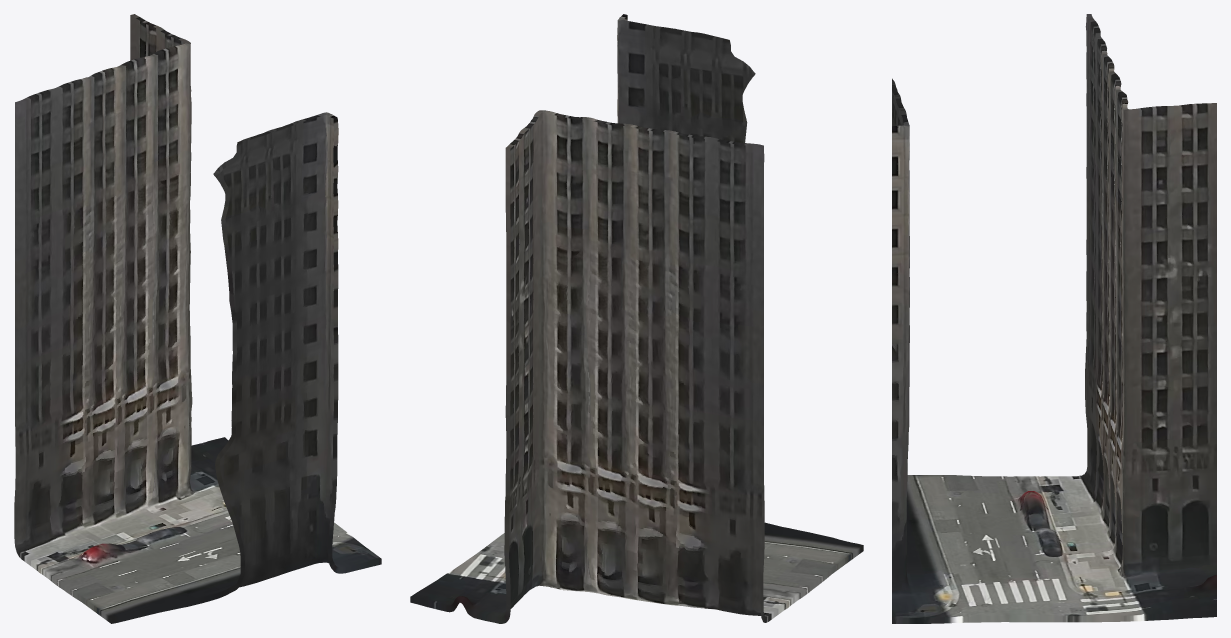
File: z20-167764-405234-h0-yup-uvflip-v3-world.glb
3 views of the same model, side by side, from view 1: azimuth 30°, elevation 25°; view 2: azimuth 150°, elevation 25°; view 3: azimuth 270°, elevation 25° (orthographic). The views are drawn at different scales.
Size of the model in its own units: 30.16 by 48.76 by 30.32.
1 material, 1 textured.
